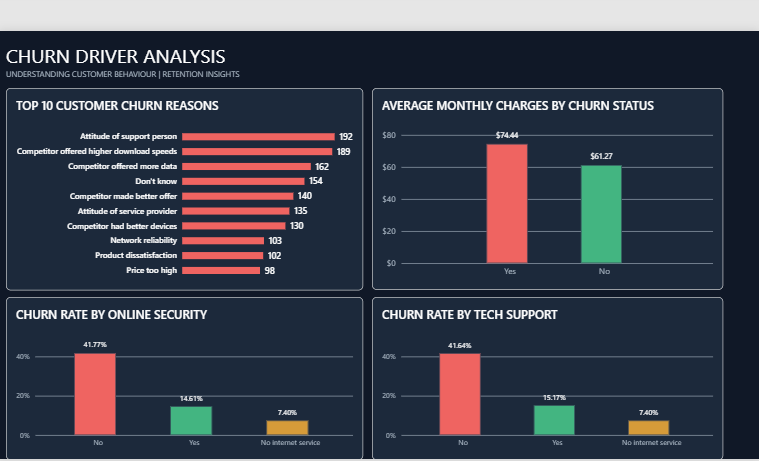

This screenshot's page, from the dashboard's own definition file:
{"tool":"powerbi","page":{"name":"CHURN DRIVER ANALYSIS","canvas":[1280,720],"ordinal":1},"visuals":[{"type":"textbox","title":"CHURN DRIVER ANALYSIS","box":[13.4,18.5,1171,65],"z":0},{"type":"clusteredBarChart","title":"TOP 10 CUSTOMER CHURN REASONS","fields":{"Category":["telco_churn_cleaned.Churn Reason"],"Y":["telco_churn_cleaned.Churned Customers"]},"box":[13.4,95.7,600,340],"z":1000},{"type":"clusteredColumnChart","title":"AVERAGE MONTHLY CHARGES BY CHURN STATUS","fields":{"Category":["telco_churn_cleaned.Churn Label"],"Y":["telco_churn_cleaned.Average Monthly Charges"]},"box":[628.2,95.7,589.6,339.3],"z":2000},{"type":"clusteredColumnChart","title":"CHURN RATE BY ONLINE SECURITY","fields":{"Category":["telco_churn_cleaned.Online Security"],"Y":["telco_churn_cleaned.Churn rate"]},"box":[13,446,600,274],"z":3000},{"type":"clusteredColumnChart","title":"CHURN RATE BY TECH SUPPORT","fields":{"Category":["telco_churn_cleaned.Tech Support"],"Y":["telco_churn_cleaned.Churn rate"]},"box":[628,446,590,274],"z":4000}]}

Visuals, with their boxes on the page's 1280x720 design canvas (x1, y1, x2, y2). These are canvas units, not pixel positions in the 759x461 screenshot, which may show the page scaled, cropped or inside an application window:
"CHURN DRIVER ANALYSIS" textbox: [13, 18, 1184, 84]
"TOP 10 CUSTOMER CHURN REASONS" clusteredBarChart: [13, 96, 613, 436]
"AVERAGE MONTHLY CHARGES BY CHURN STATUS" clusteredColumnChart: [628, 96, 1218, 435]
"CHURN RATE BY ONLINE SECURITY" clusteredColumnChart: [13, 446, 613, 720]
"CHURN RATE BY TECH SUPPORT" clusteredColumnChart: [628, 446, 1218, 720]
